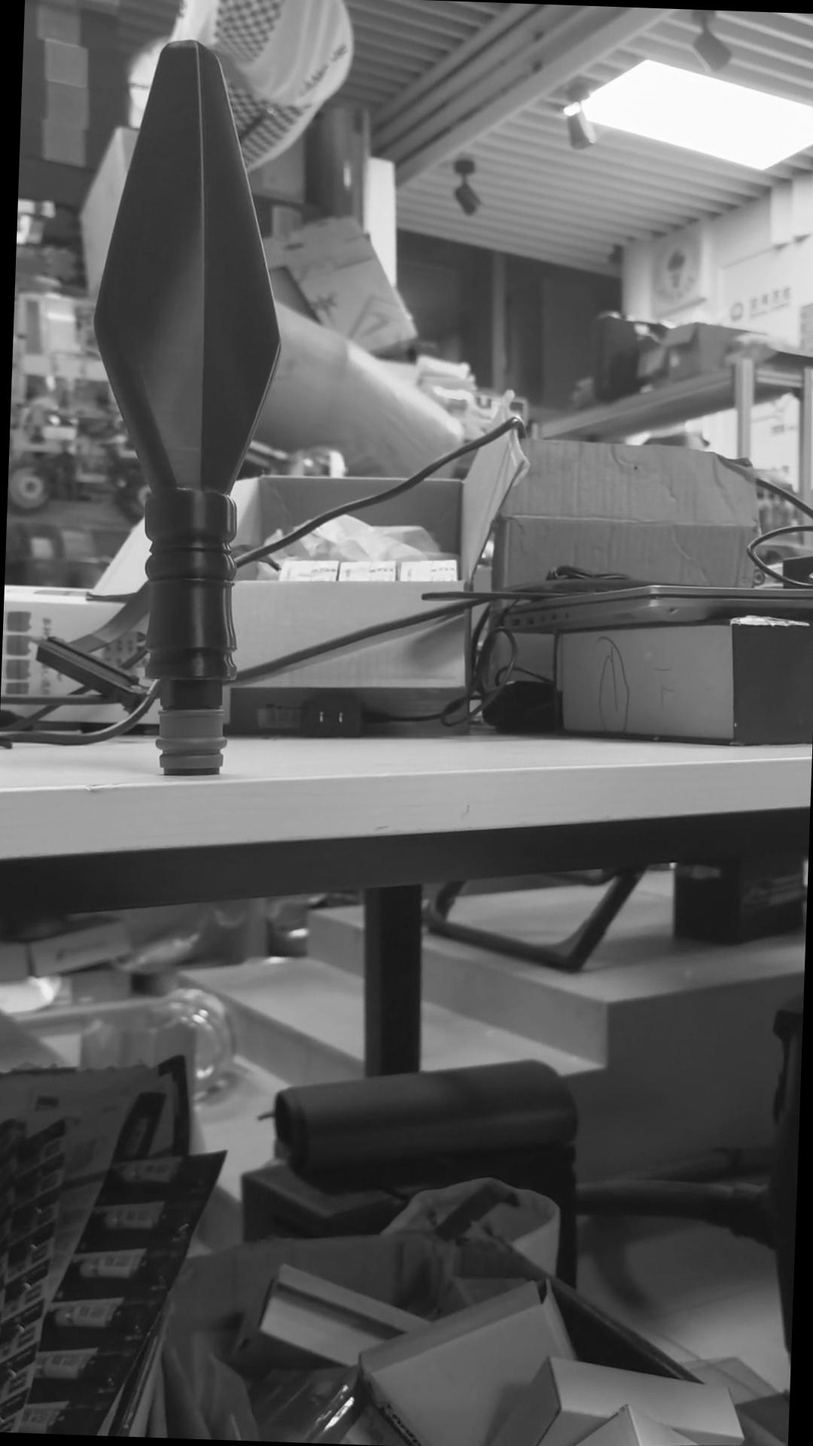base: (146, 702, 245, 782)
